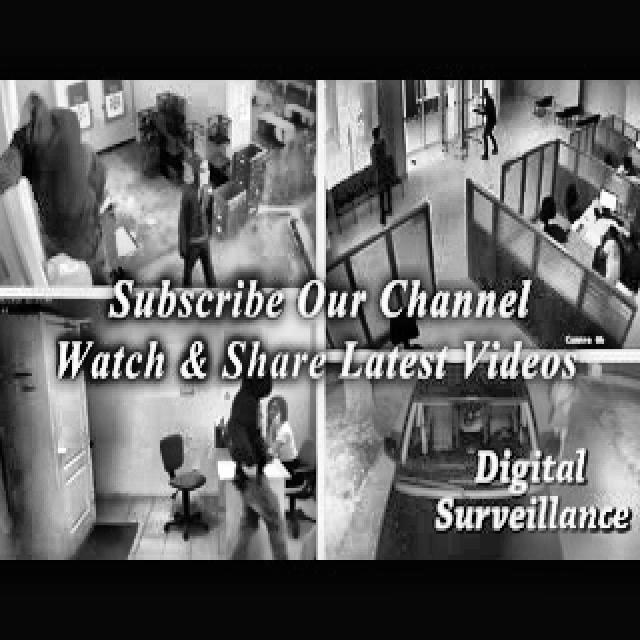burglary: (4, 86, 126, 286), (173, 149, 233, 286)
